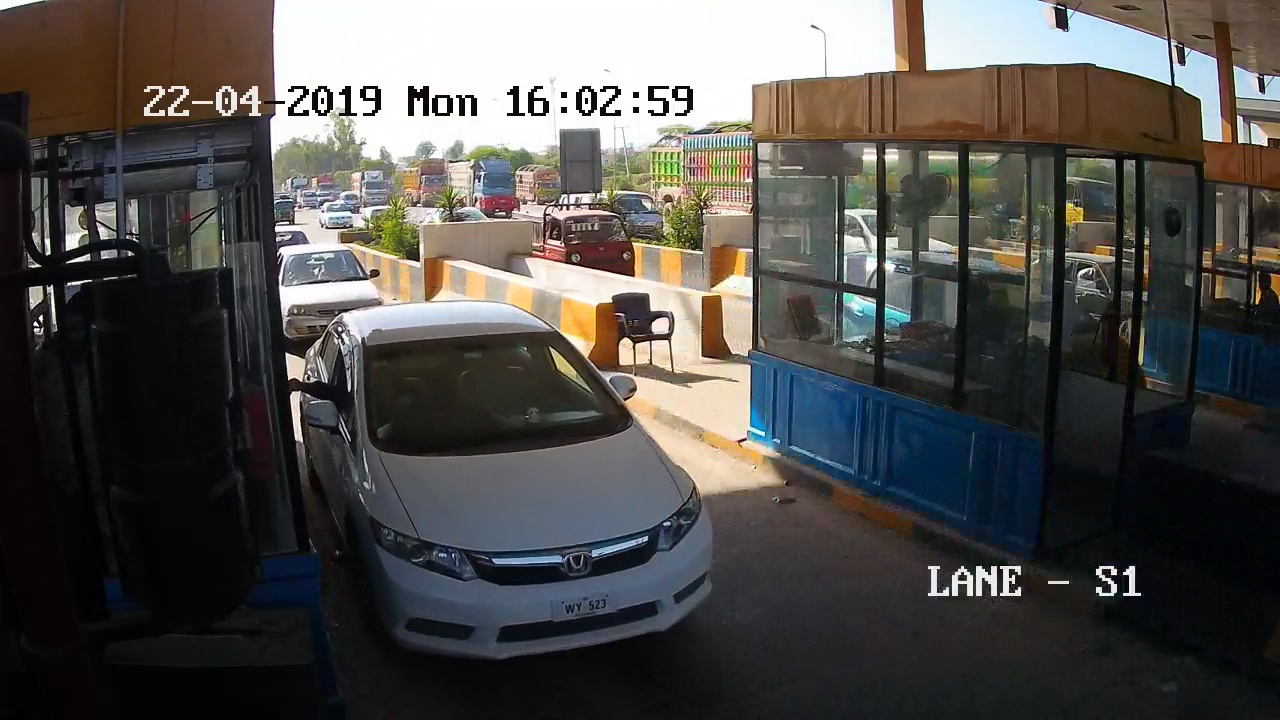car: (299, 311, 738, 665), (282, 252, 371, 298)
